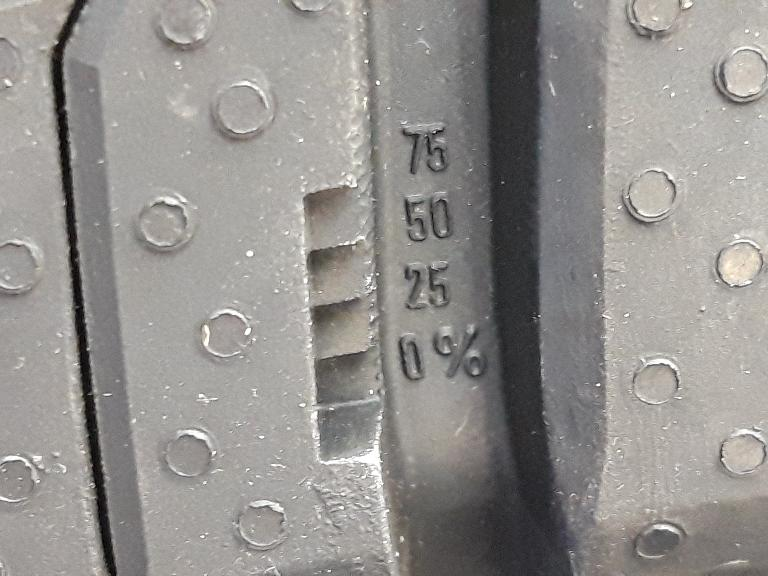temoin:100: (294, 116, 393, 469)
